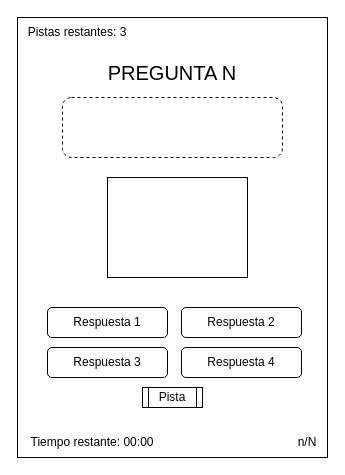
Image size: 345x475. Some labels were removed from this diagram. Here are the shapes that lost their labels. From the top down, the centre of each, then its label:
point (172, 127): Enunciado de la pregunta
point (177, 227): Foto (opcional)
